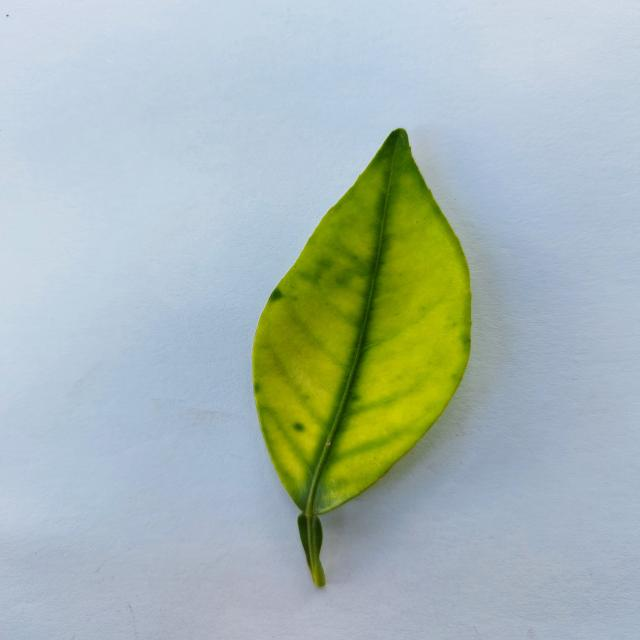greening: (252, 129, 471, 586)
